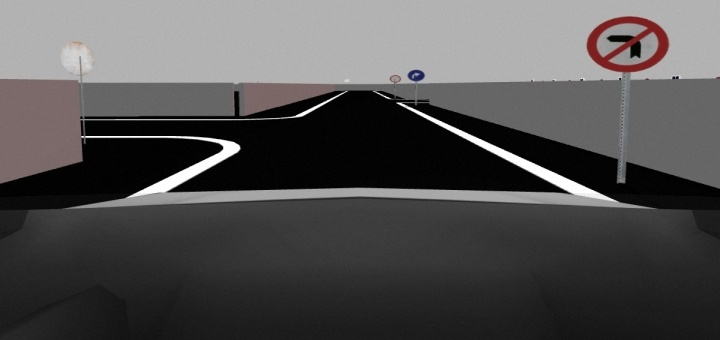sola_donulmez: (587, 14, 672, 76)
